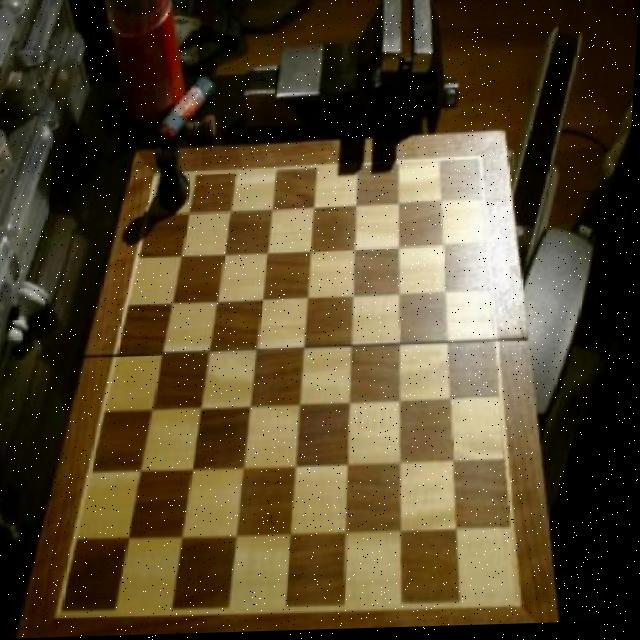black-queen: (153, 141, 198, 215)
